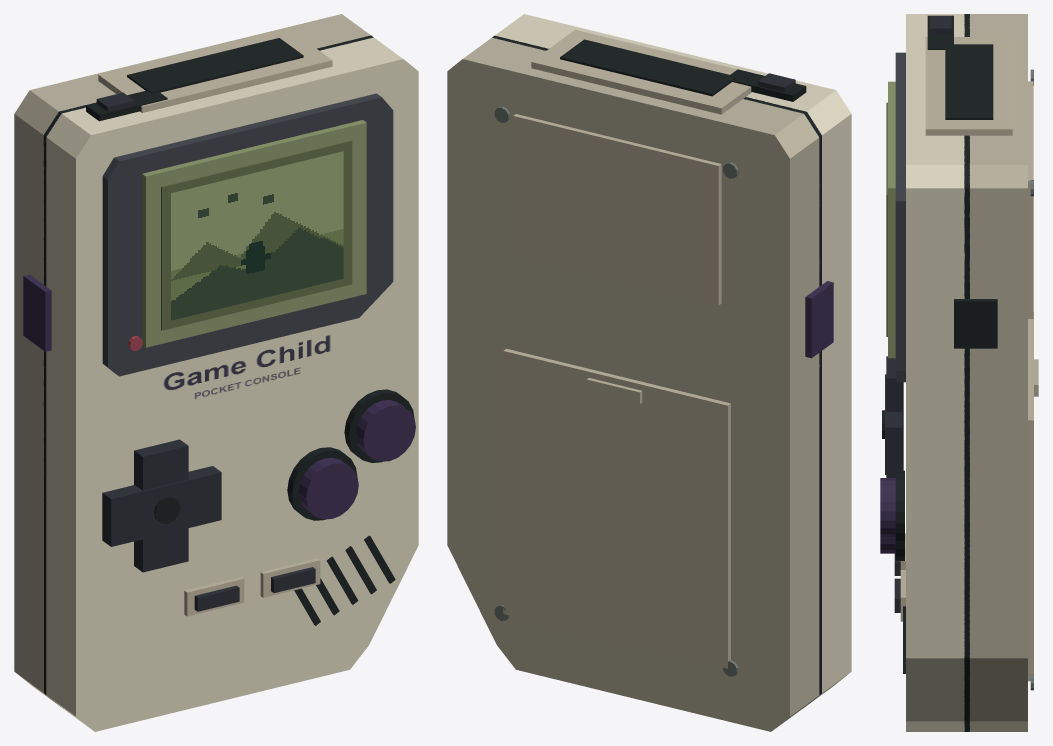
The model's file is game-child.glb.
3 renders of one model, left to right at view 1: azimuth 30°, elevation 25°; view 2: azimuth 150°, elevation 25°; view 3: azimuth 270°, elevation 25°, orthographic.
Parts seen in each view (by area): view 1: SM_FrontShell, SM_ScreenBezel, SM_ScreenPixelArtwork, SM_RearShell, SM_ScreenInnerFrame, SM_GameChildBrand, SM_ScreenShadow, SM_DPadHorizontal, SM_CartridgeSlotRim, SM_DPadVertical, SM_CartridgeSlotDark, SM_ButtonA (+10 smaller); view 2: SM_RearShell, SM_BatteryDoor, SM_BackCartridgeDetail, SM_FrontShell, SM_CartridgeSlotRim, SM_CartridgeSlotDark, SM_CenterSeam, SM_VolumeWheel, SM_PowerSwitchTrack, SM_BatteryLatch; view 3: SM_FrontShell, SM_RearShell, SM_CartridgeSlotRim, SM_CartridgeSlotDark, SM_ScreenBezel, SM_CenterSeam, SM_ScreenInnerFrame, SM_SideLinkPort, SM_BatteryDoor, SM_BackCartridgeDetail, SM_DPadHorizontal, SM_ButtonA (+5 smaller).
Boxes of the visible parts, x1,y1,x2,y2 form: SM_FrontShell: (46, 37, 418, 731); SM_ScreenBezel: (102, 93, 393, 376); SM_ScreenPixelArtwork: (171, 151, 343, 320); SM_RearShell: (14, 14, 370, 705); SM_ScreenInnerFrame: (142, 120, 366, 347); SM_GameChildBrand: (133, 316, 361, 419); SM_ScreenShadow: (161, 140, 352, 330); SM_DPadHorizontal: (102, 466, 221, 546); SM_CartridgeSlotRim: (98, 28, 332, 112); SM_DPadVertical: (134, 439, 188, 572); SM_CartridgeSlotDark: (127, 38, 303, 93); SM_ButtonA: (355, 400, 415, 461); SM_RearShell: (447, 37, 819, 731); SM_BatteryDoor: (503, 348, 730, 668); SM_BackCartridgeDetail: (513, 114, 721, 305); SM_FrontShell: (495, 14, 851, 705); SM_CartridgeSlotRim: (531, 29, 751, 114); SM_CartridgeSlotDark: (560, 39, 736, 96); SM_CenterSeam: (492, 35, 821, 706); SM_VolumeWheel: (805, 281, 833, 358); SM_PowerSwitchTrack: (730, 69, 806, 101); SM_BatteryLatch: (586, 378, 642, 404); SM_FrontShell: (906, 14, 964, 731); SM_RearShell: (969, 14, 1027, 731); SM_CartridgeSlotRim: (925, 37, 1012, 135); SM_CartridgeSlotDark: (945, 44, 993, 119); SM_ScreenBezel: (895, 52, 905, 382); SM_CenterSeam: (964, 14, 969, 731); SM_ScreenInnerFrame: (888, 81, 895, 358); SM_SideLinkPort: (954, 299, 997, 348); SM_BatteryDoor: (1028, 312, 1033, 681); SM_BackCartridgeDetail: (1028, 81, 1033, 318); SM_DPadHorizontal: (885, 374, 902, 474); SM_ButtonA: (880, 478, 895, 537).
Bounding box in the file's own units: 0.0929 × 0.1531 × 0.0363.
Materials: 1 (1 with a texture image).
